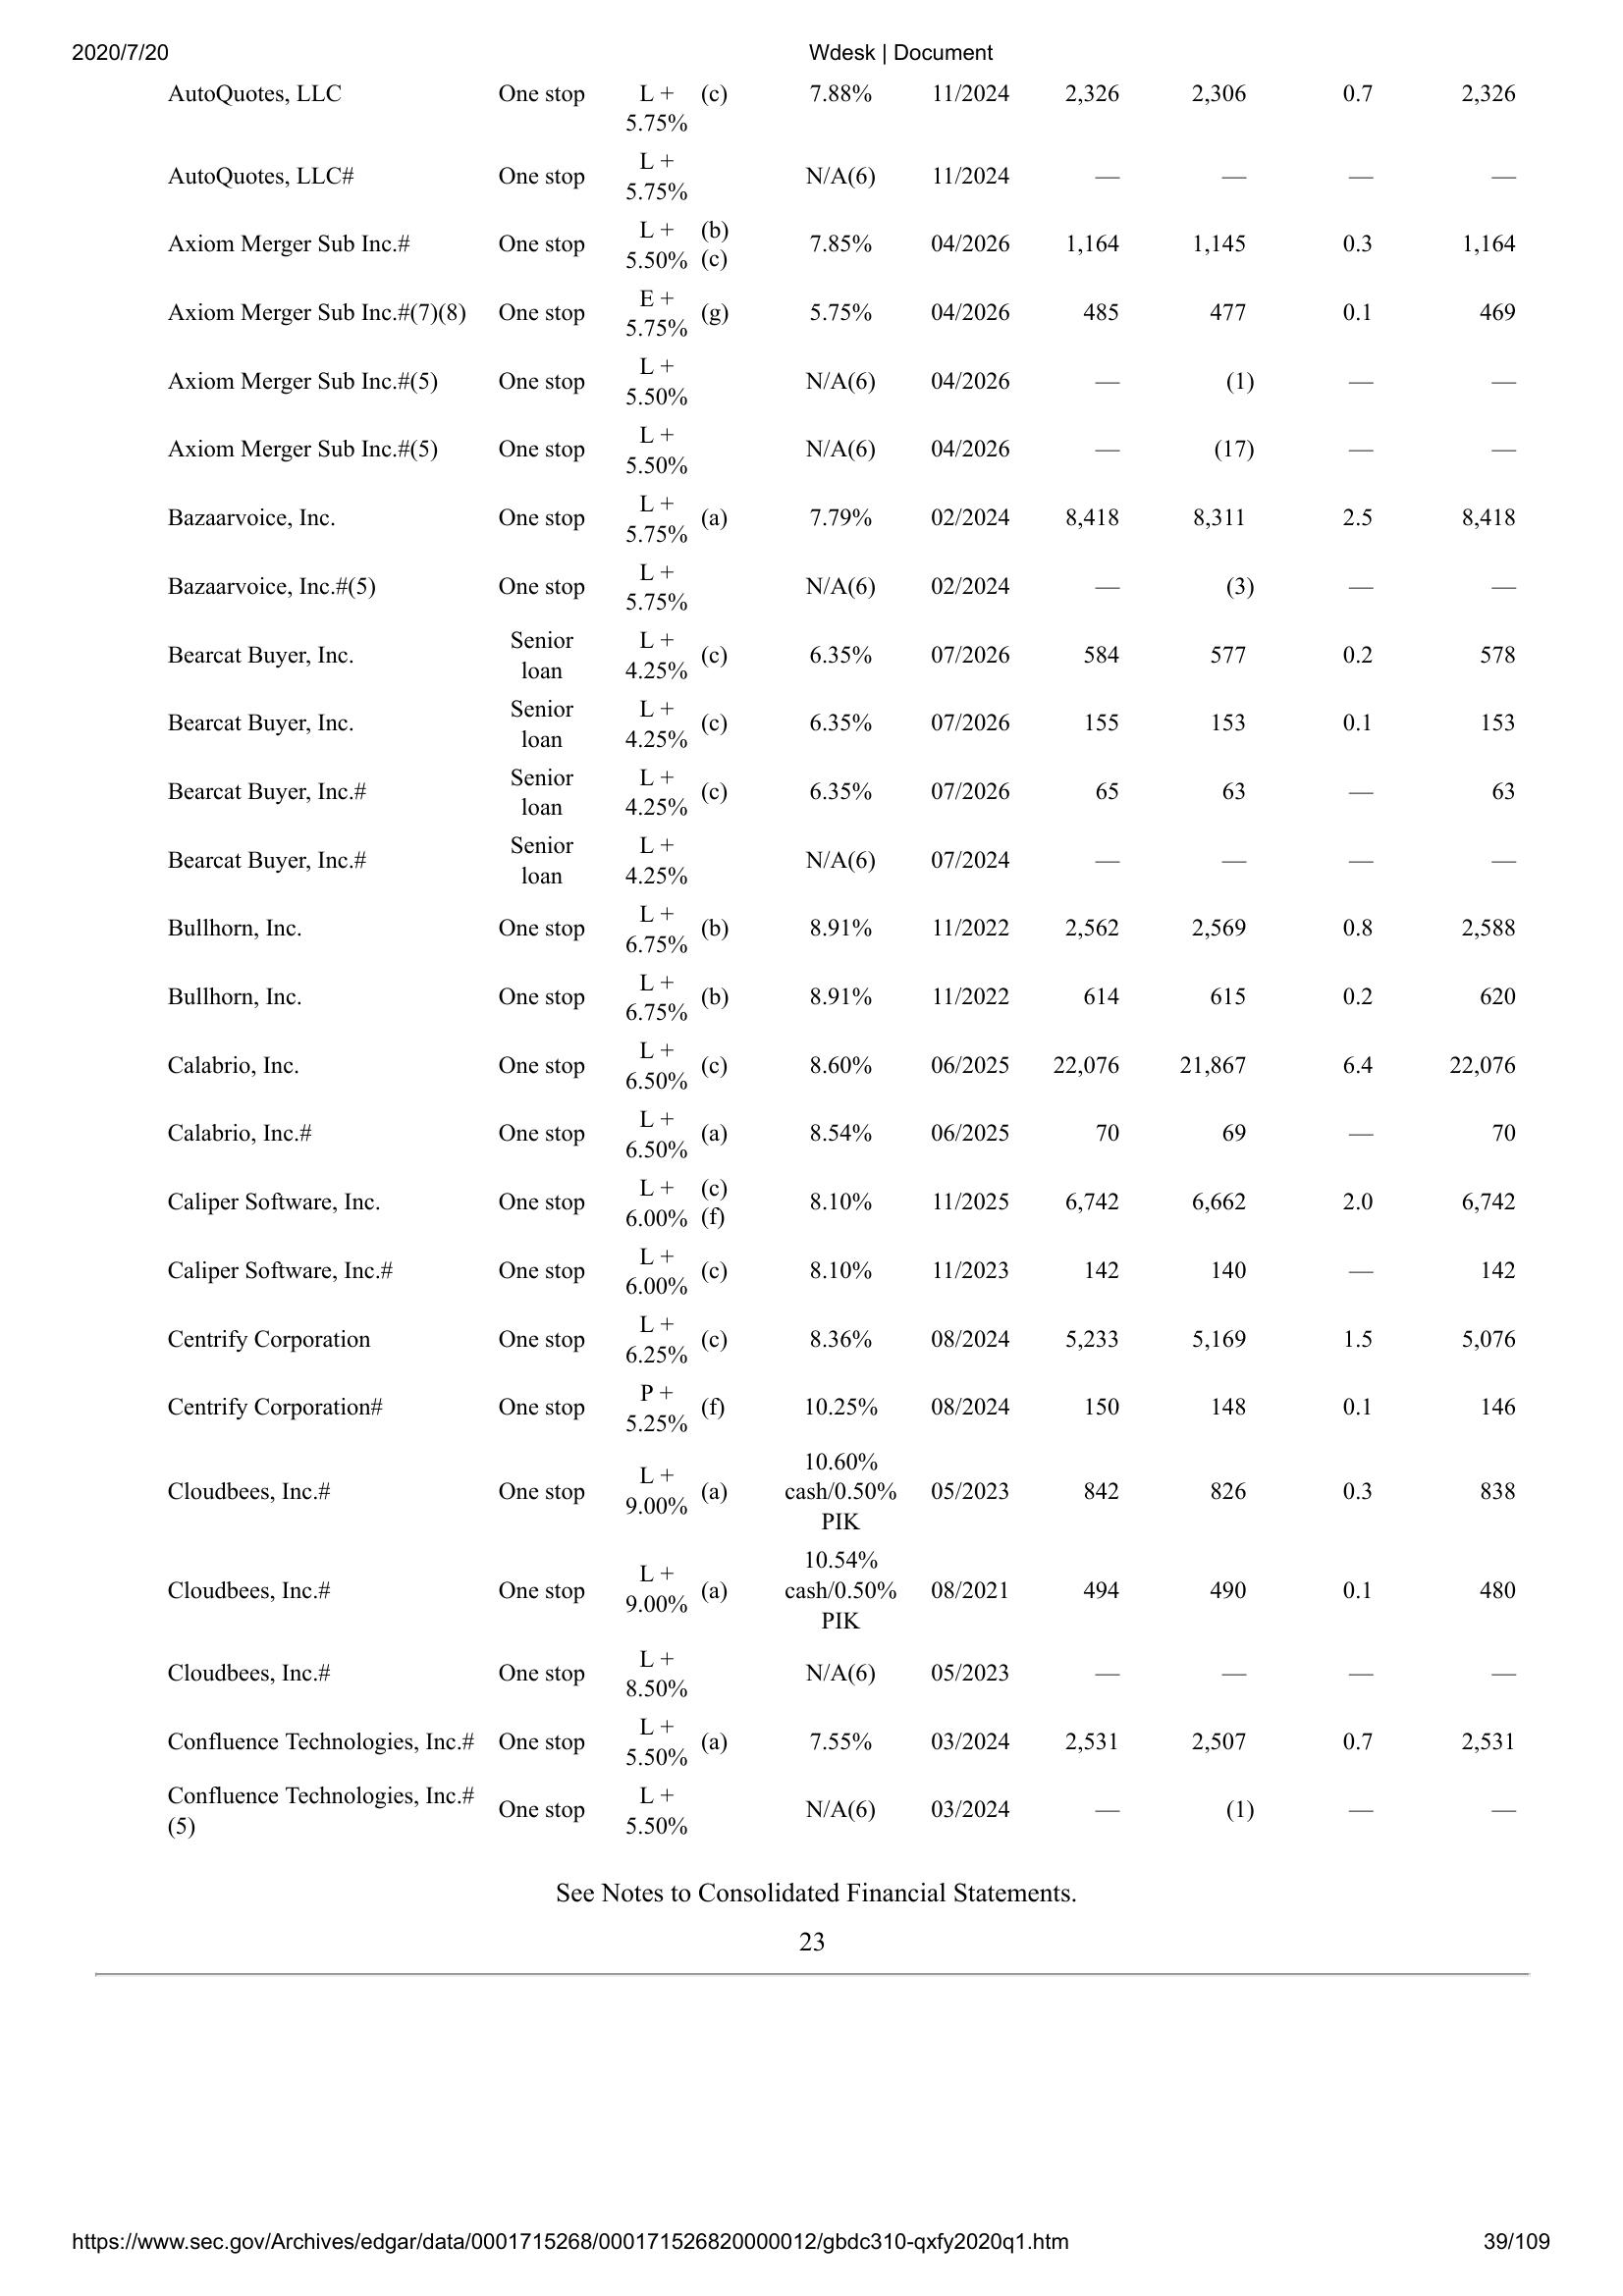table: (146, 60, 1521, 1829)
